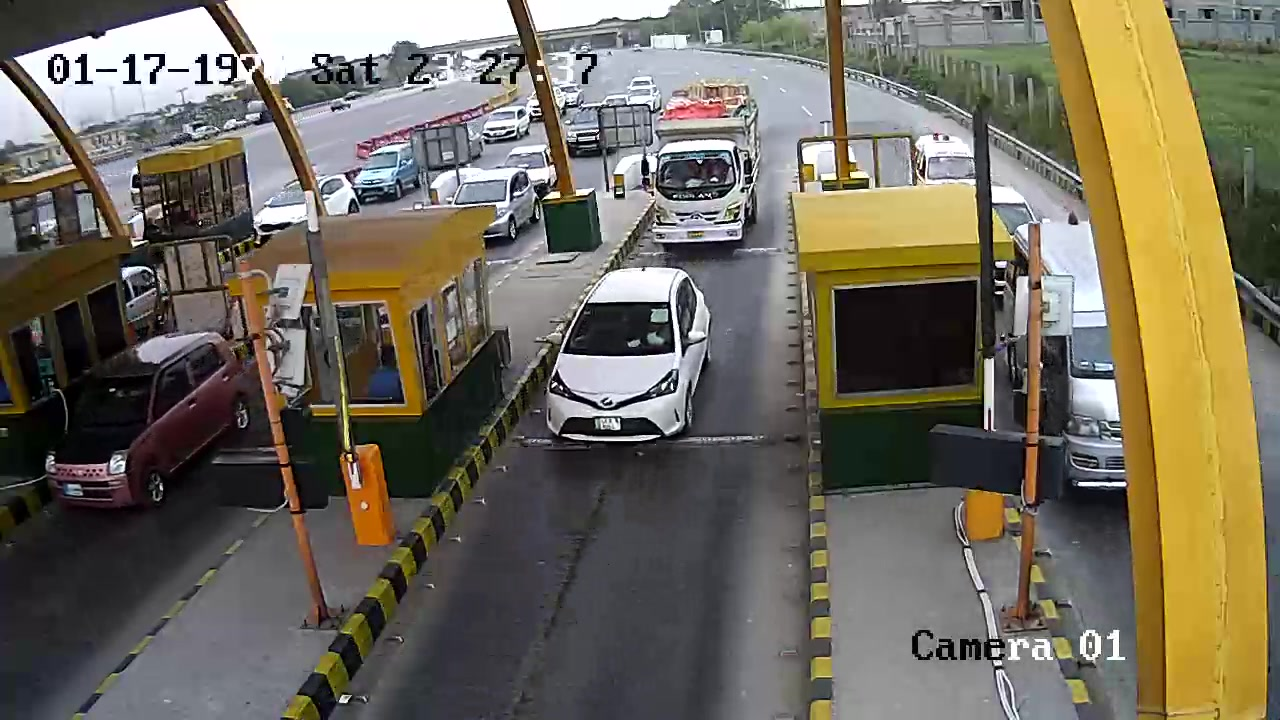F1: (535, 268, 719, 456)
